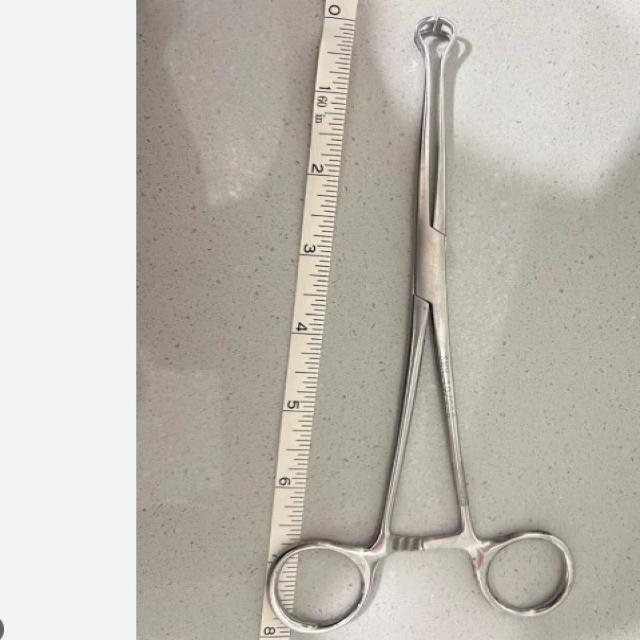Babcock Forceps: (264, 14, 578, 634)
